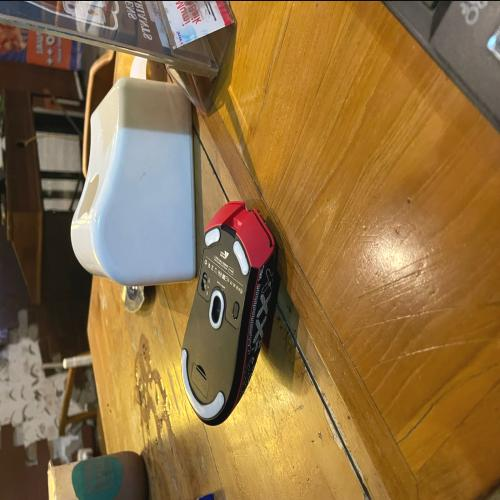Mouse: (173, 185, 296, 453)
